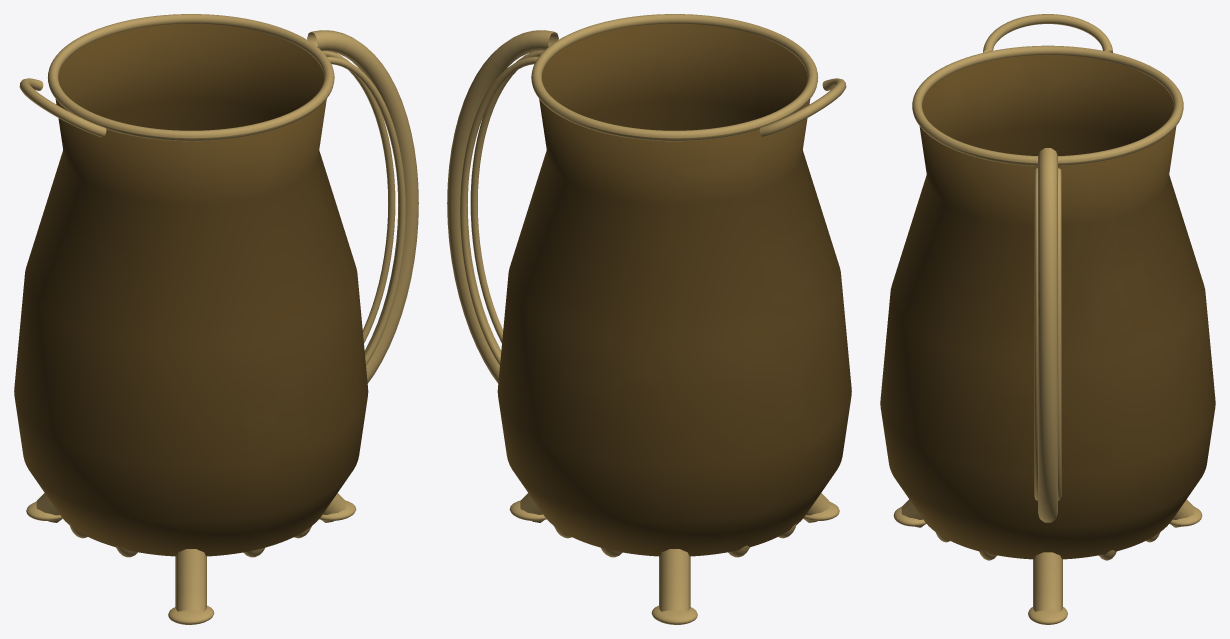
File: cookware__utensil_pitcher.glb
The picture shows the model from 3 angles, left to right: view 1: azimuth 30°, elevation 25°; view 2: azimuth 150°, elevation 25°; view 3: azimuth 270°, elevation 25°; orthographic projection. The views are drawn at different scales.
Parts seen in each view (by area): view 1: pitcher; view 2: pitcher; view 3: pitcher.
Boxes of the visible parts, x1=… form: pitcher: x1=14, y1=14, x2=418, y2=624; pitcher: x1=447, y1=14, x2=851, y2=624; pitcher: x1=880, y1=14, x2=1215, y2=624.
Bounding box in the file's own units: 0.168 × 0.2076 × 0.134.
2 materials, 1 textured.
